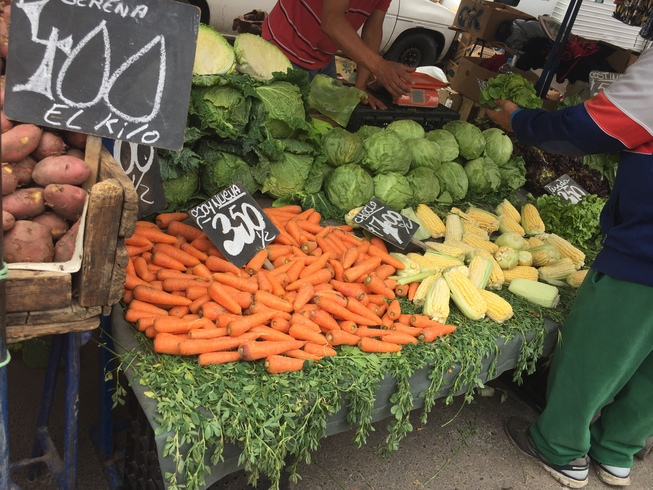precio: (3, 1, 193, 161), (185, 181, 291, 267), (111, 123, 172, 227), (349, 193, 428, 256), (542, 169, 594, 212)
